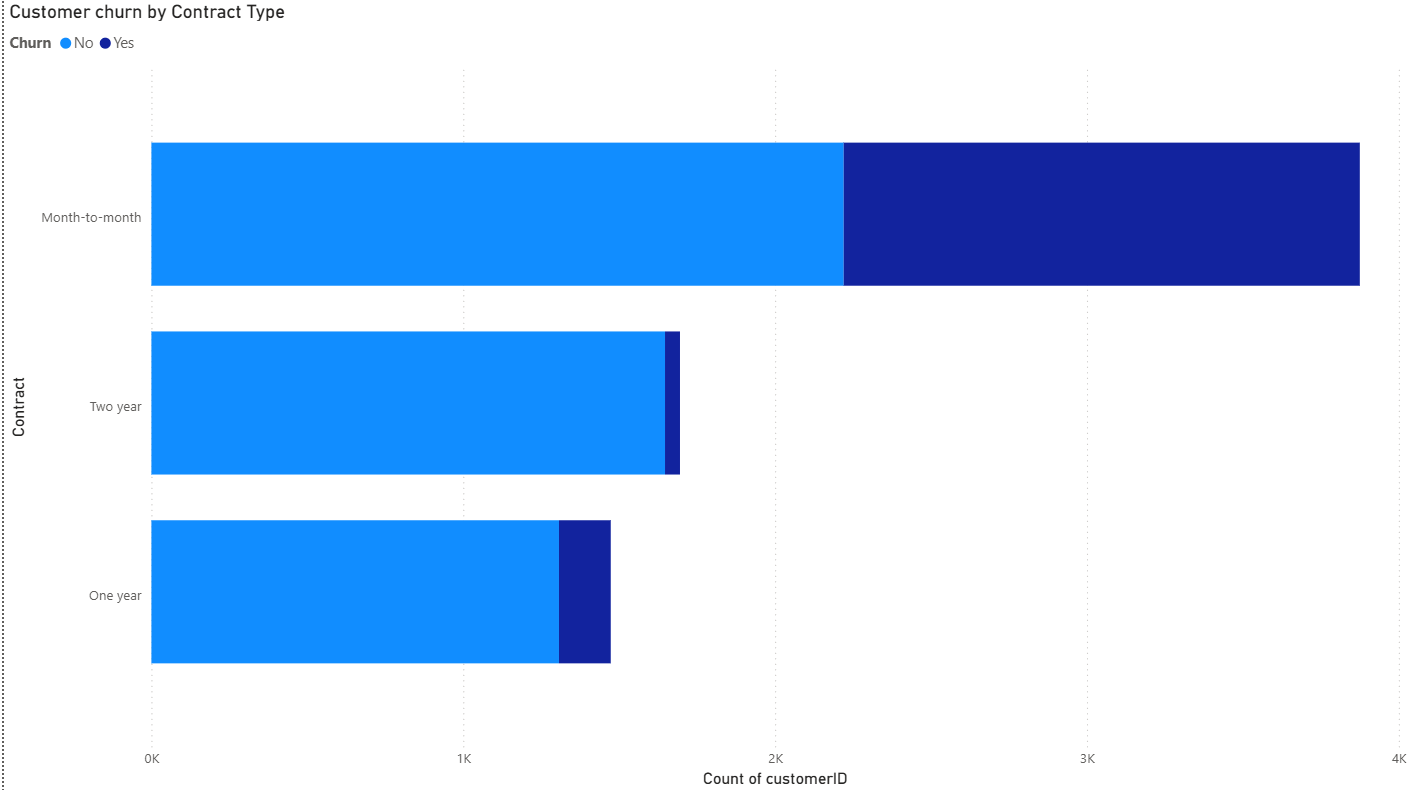

This screenshot's page, from the dashboard's own definition file:
{"tool":"powerbi","page":{"name":"Page 1","canvas":[1280,720],"ordinal":0},"visuals":[{"type":"barChart","fields":{"Category":["Telco-Customer-Churn.Contract"],"Y":["CountNonNull(Telco-Customer-Churn.customerID)"],"Series":["Telco-Customer-Churn.Churn"]},"box":[0,0,1280,719.8],"z":0}]}

Visuals, with their boxes in screenshot pixels (x1, y1, x2, y2), scaled from the page's 1280x720 canvas onto the 1412x790 screenshot:
barChart - Telco-Customer-Churn.Contract x CountNonNull(Telco-Customer-Churn.customerID): 0:0:1411:789
